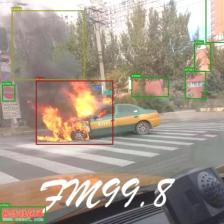fire: (35, 80, 113, 145)
smoke: (11, 10, 84, 80)
